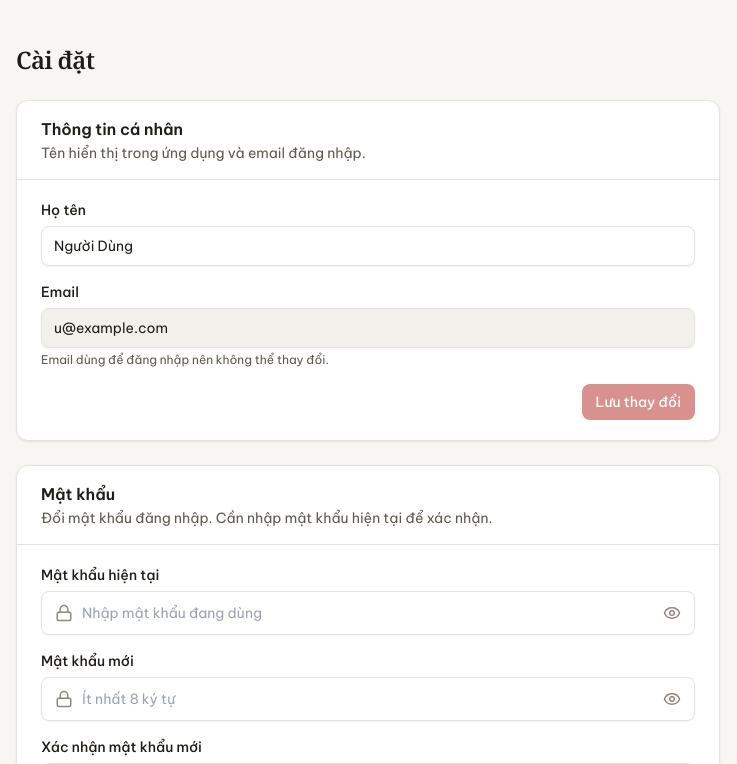
Test: SettingsPage — mật khẩu › xác nhận không khớp -> báo lỗi, không gọi API
The width and height of the screenshot is (737, 764).
Type "cu123456" into the password field labelled "Mật khẩu hiện tại". click: {"x": 368, "y": 613}
box: [41,591,695,635]
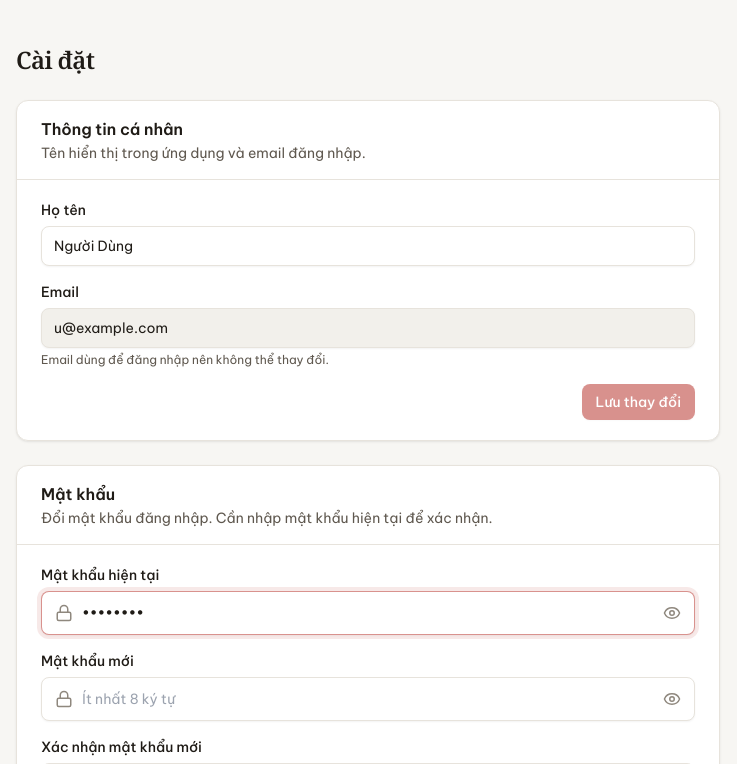
Type "moi123456" into the password field labelled "Mật khẩu mới". click: {"x": 368, "y": 699}
box: [41,677,695,721]
(page scrolled)
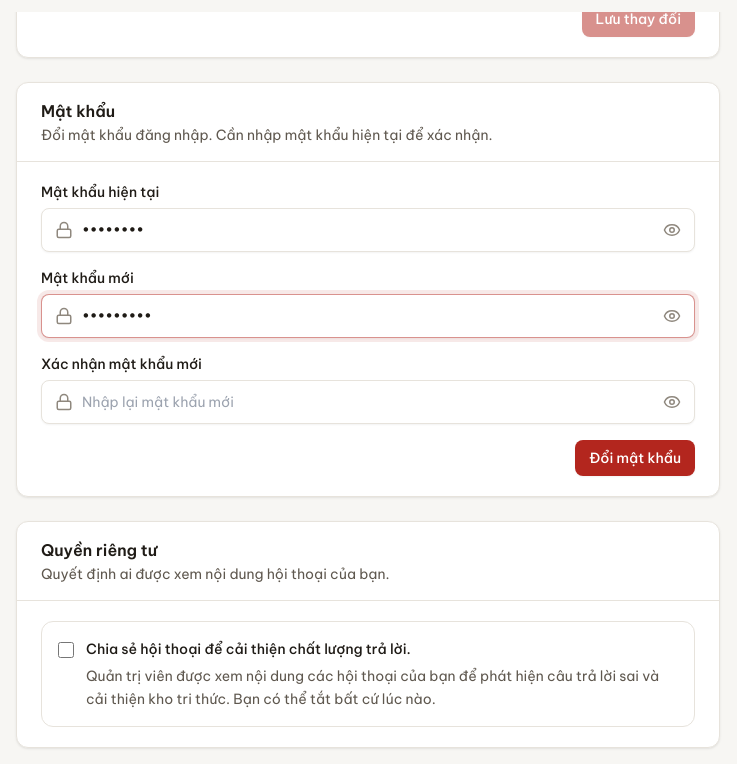
Type "khac12345" into the password field labelled "Xác nhận mật khẩu mới". click: {"x": 368, "y": 402}
box: [41,380,695,424]
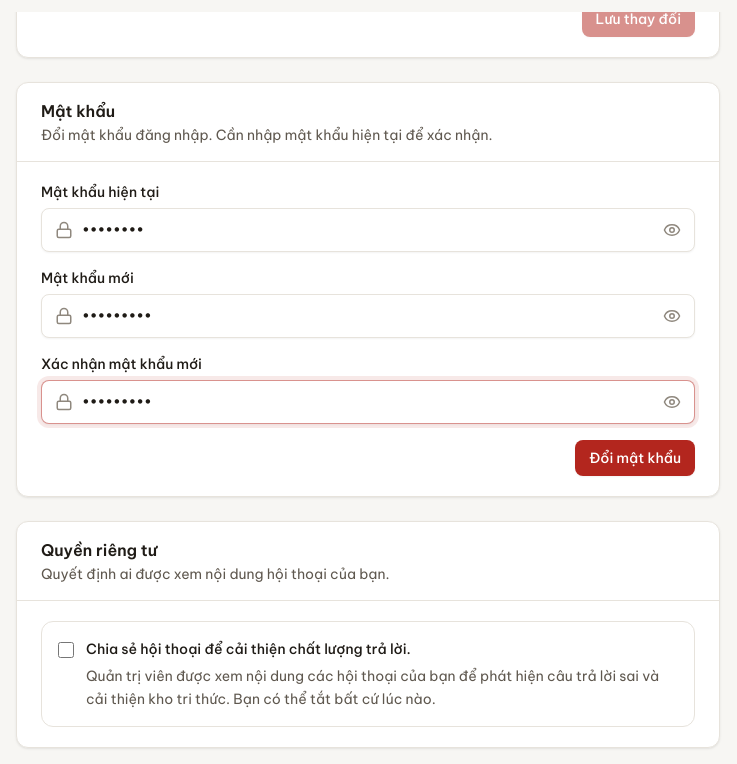
Click the button "Đổi mật khẩu". click: {"x": 635, "y": 458}
box: [575,440,695,476]
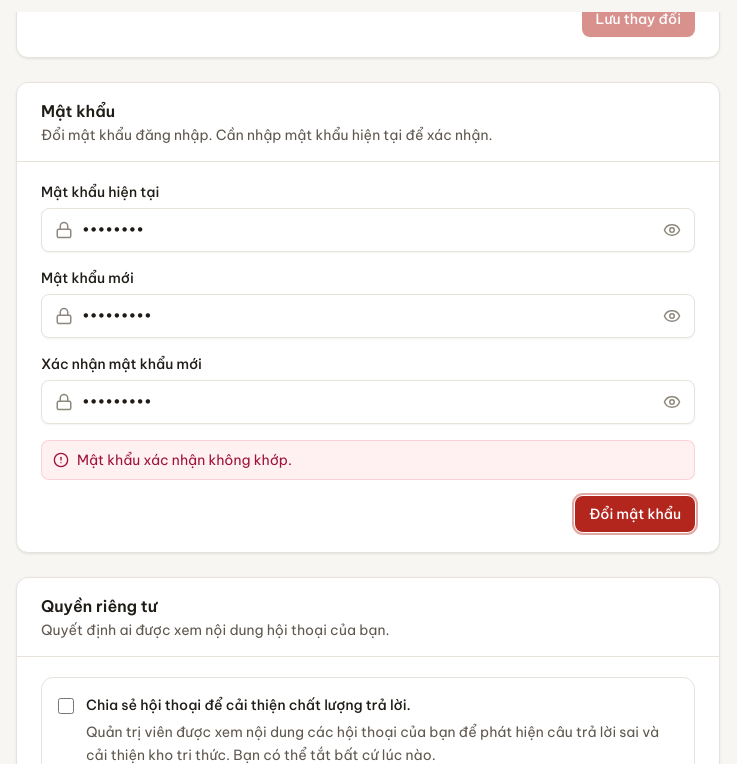
Result: the text "Mật khẩu xác nhận không khớp." is shown at [77,450,292,470]
